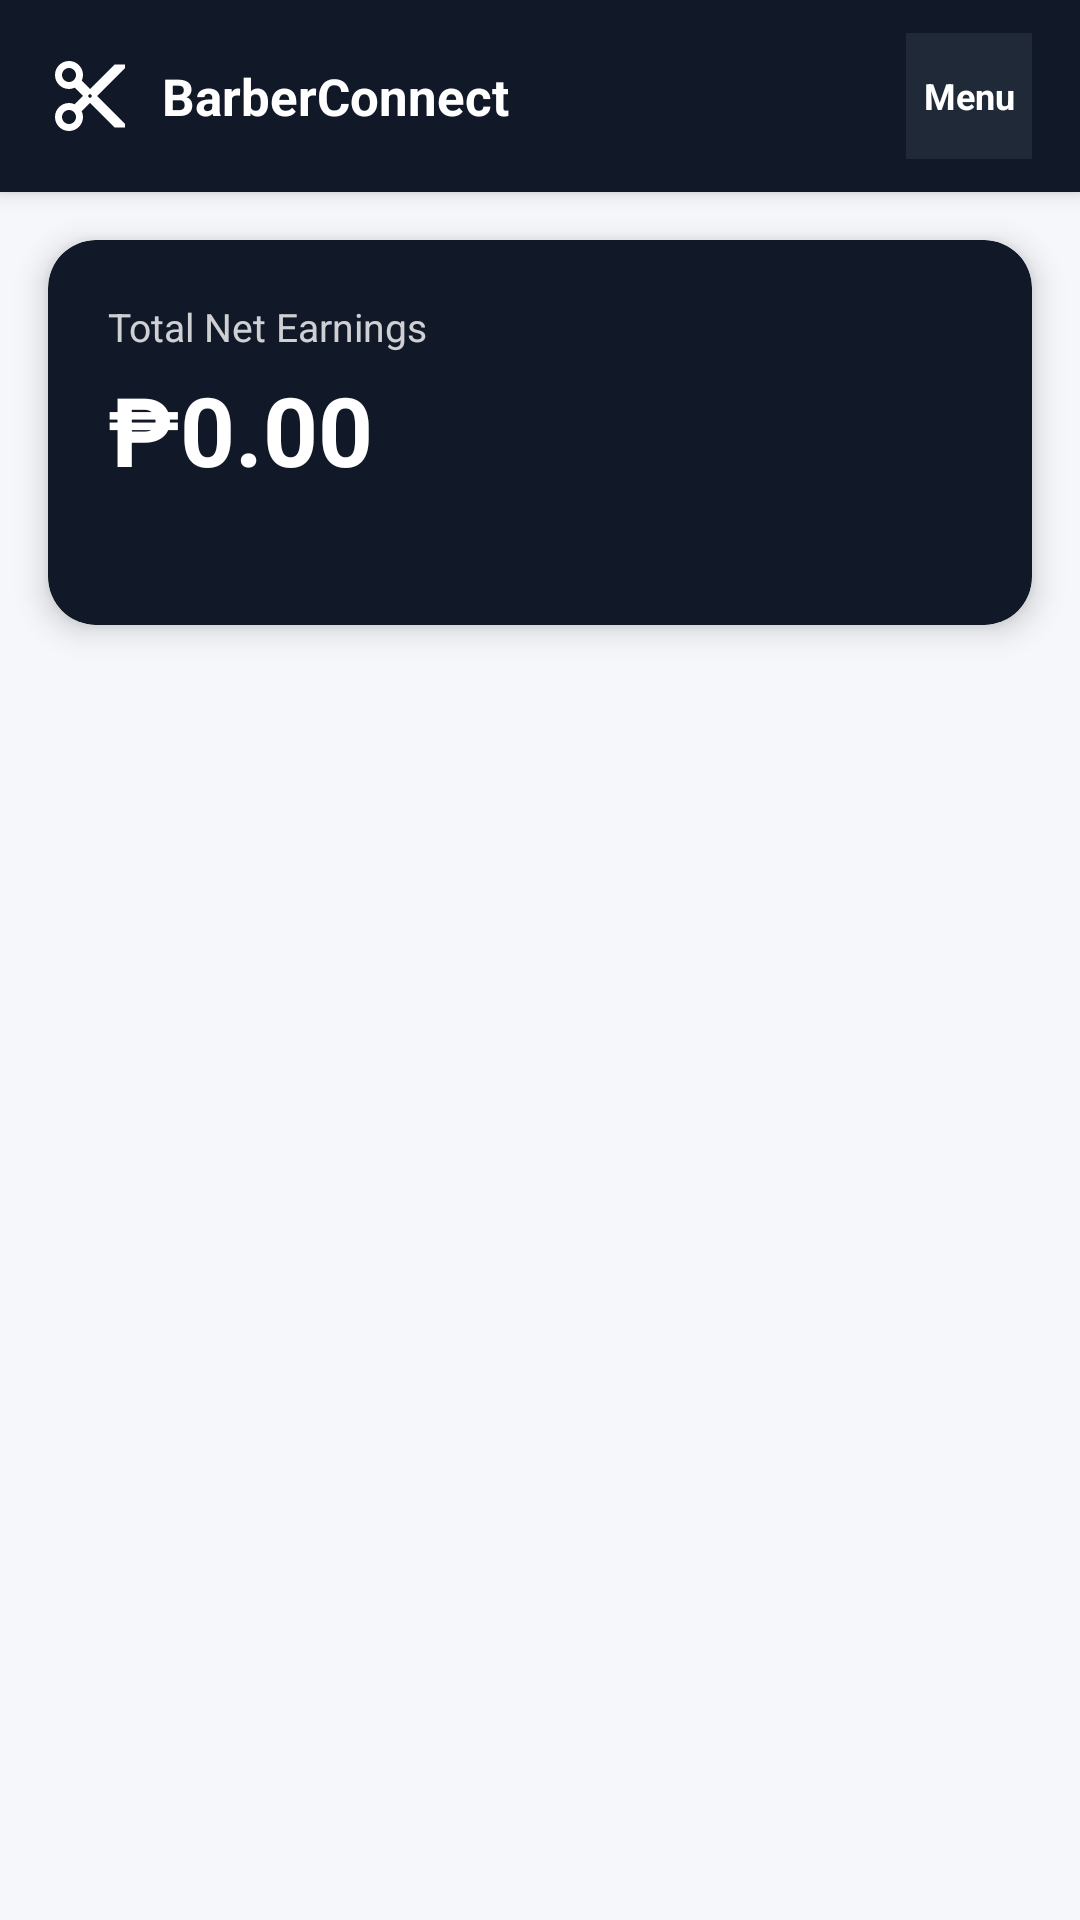

Named icons in this screenshot (1080px×1920px) and their bounding boxes, [x1,y1,x2,y2]:
scissors: [55,61,125,131]
